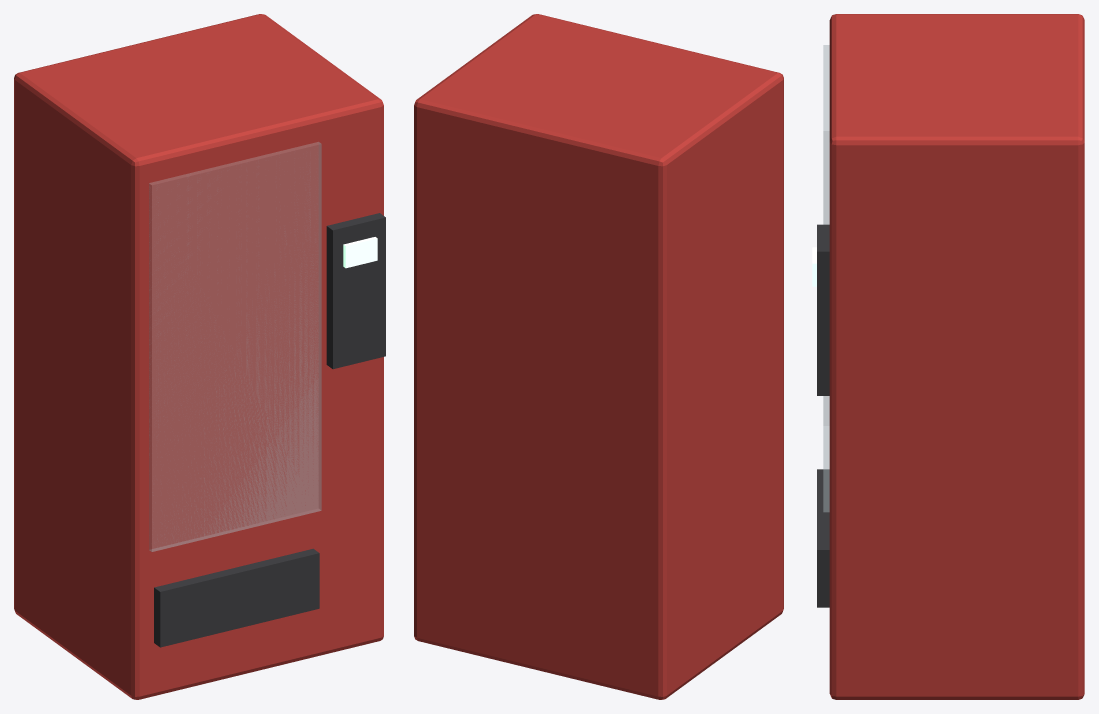
The model's file is vending_machine.glb.
3 renders of one model, left to right at view 1: azimuth 30°, elevation 25°; view 2: azimuth 150°, elevation 25°; view 3: azimuth 270°, elevation 25°, orthographic. The views are drawn at different scales.
Visible parts, largest first — view 1: vending_machine; view 2: vending_machine; view 3: vending_machine.
Boxes of the visible parts, x1,y1,x2,y2 form: vending_machine: [14, 14, 385, 699]; vending_machine: [414, 14, 783, 699]; vending_machine: [812, 14, 1084, 699].
Bounding box in the file's own units: 0.95 × 1.95 × 0.855.
